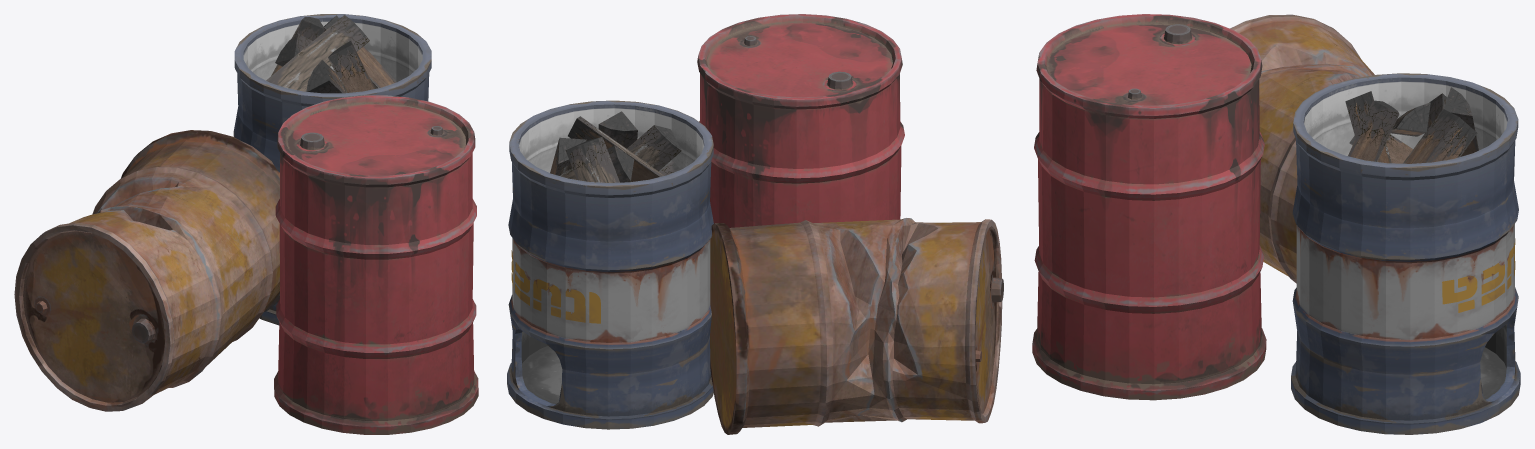
File: WarehouseManager_15.obj
3 renders of one model, left to right at view 1: azimuth 30°, elevation 25°; view 2: azimuth 150°, elevation 25°; view 3: azimuth 270°, elevation 25°, orthographic. The views are drawn at different scales.
Bounding box in the file's own units: 1.72 × 1.04 × 1.51.
Materials: 3 (3 with a texture image).
